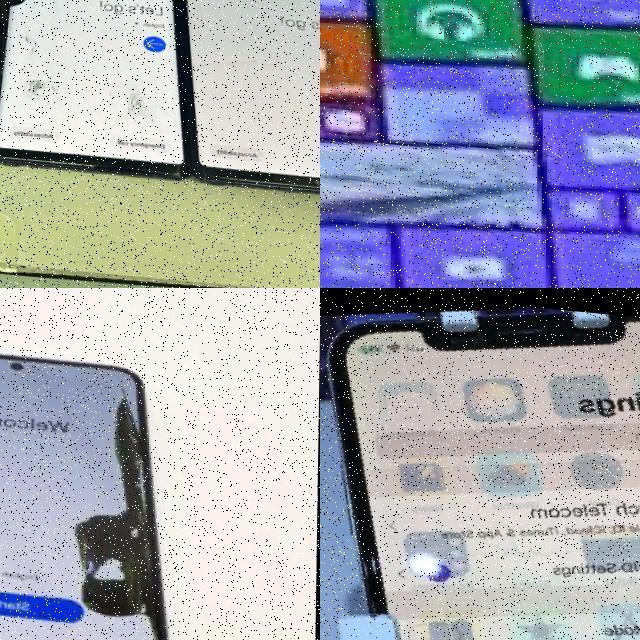dead pixel: (60, 372, 184, 640)
screen crack: (179, 26, 304, 82), (11, 23, 74, 108), (108, 66, 173, 128)
